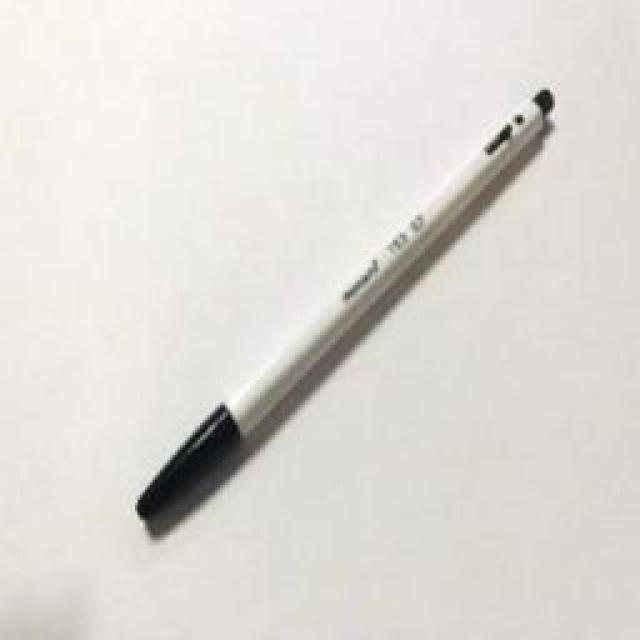pen: (133, 85, 558, 530)
